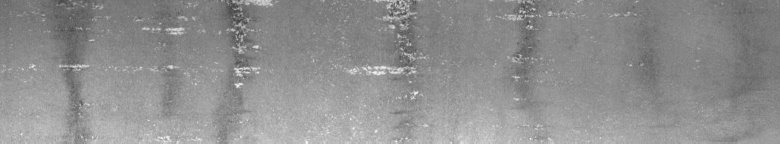hc: (5, 4, 273, 115)
